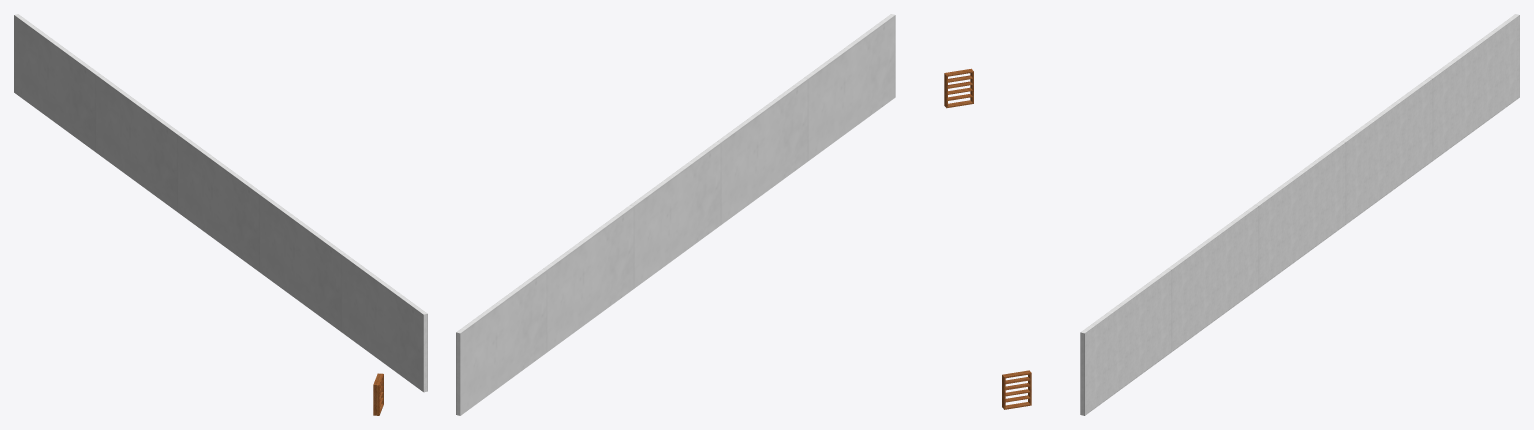
The model's file is wall_corridor_02.fbx.
3 renders of one model, left to right at view 1: azimuth 30°, elevation 25°; view 2: azimuth 150°, elevation 25°; view 3: azimuth 330°, elevation 25°, orthographic. The views are drawn at different scales.
Parts seen in each view (by area): view 1: CorridorWall1, CorridorWall2, CorridorWall4, CorridorWall6, CorridorWall8, book_case; view 2: CorridorWall8, CorridorWall2, CorridorWall1, CorridorWall4, CorridorWall6, book_case; view 3: CorridorWall1, CorridorWall2, CorridorWall4, CorridorWall6, CorridorWall8, book_case.
Boxes of the visible parts, x1,y1,x2,y2 form: CorridorWall1: (341, 254, 427, 392); CorridorWall2: (260, 194, 345, 331); CorridorWall4: (178, 134, 263, 272); CorridorWall6: (96, 74, 181, 212); CorridorWall8: (14, 14, 99, 152); book_case: (373, 373, 383, 415); CorridorWall8: (456, 269, 547, 415); CorridorWall2: (717, 77, 808, 224); CorridorWall1: (804, 14, 895, 160); CorridorWall4: (630, 141, 721, 287); CorridorWall6: (543, 205, 634, 351); book_case: (944, 68, 973, 108); CorridorWall1: (1080, 269, 1171, 415); CorridorWall2: (1168, 205, 1258, 351); CorridorWall4: (1255, 141, 1345, 287); CorridorWall6: (1342, 77, 1432, 224); CorridorWall8: (1429, 14, 1519, 160); book_case: (1002, 370, 1031, 409).
Size of the model in its own units: 595 by 667 by 6589.
